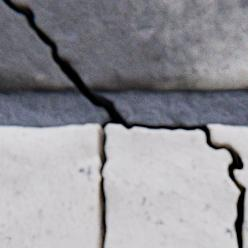broken_brick: (11, 0, 247, 91), (104, 126, 238, 247), (0, 125, 101, 247), (0, 0, 75, 91), (209, 126, 247, 247)
crack: (2, 0, 246, 247)
